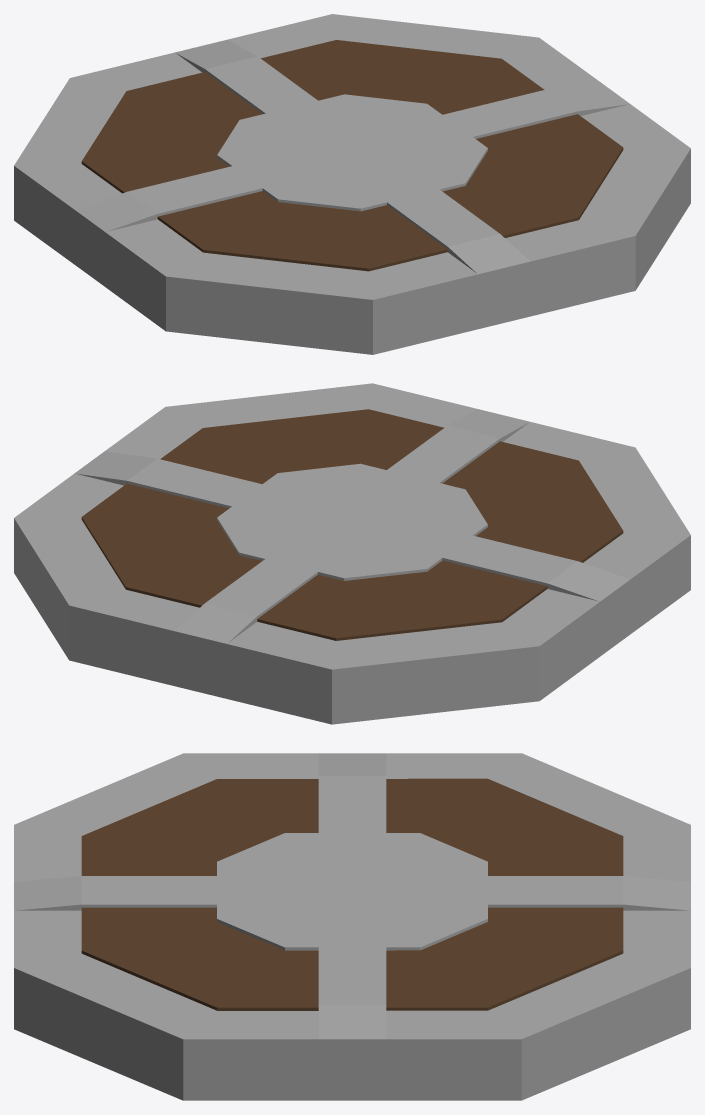
Rendered from Shield.fbx.
3 renders of one model, top to bottom at view 1: azimuth 30°, elevation 25°; view 2: azimuth 150°, elevation 25°; view 3: azimuth 270°, elevation 25°, orthographic. The views are drawn at different scales.
Visible parts, largest first — view 1: 立方体.001; view 2: 立方体.001; view 3: 立方体.001.
Boxes of the visible parts, x1,y1,x2,y2 form: 立方体.001: (14, 14, 690, 354); 立方体.001: (14, 383, 690, 724); 立方体.001: (14, 753, 690, 1100).
Bounding box in the file's own units: 10.01 × 1.1 × 10.
Materials: 2 (2 with a texture image).
